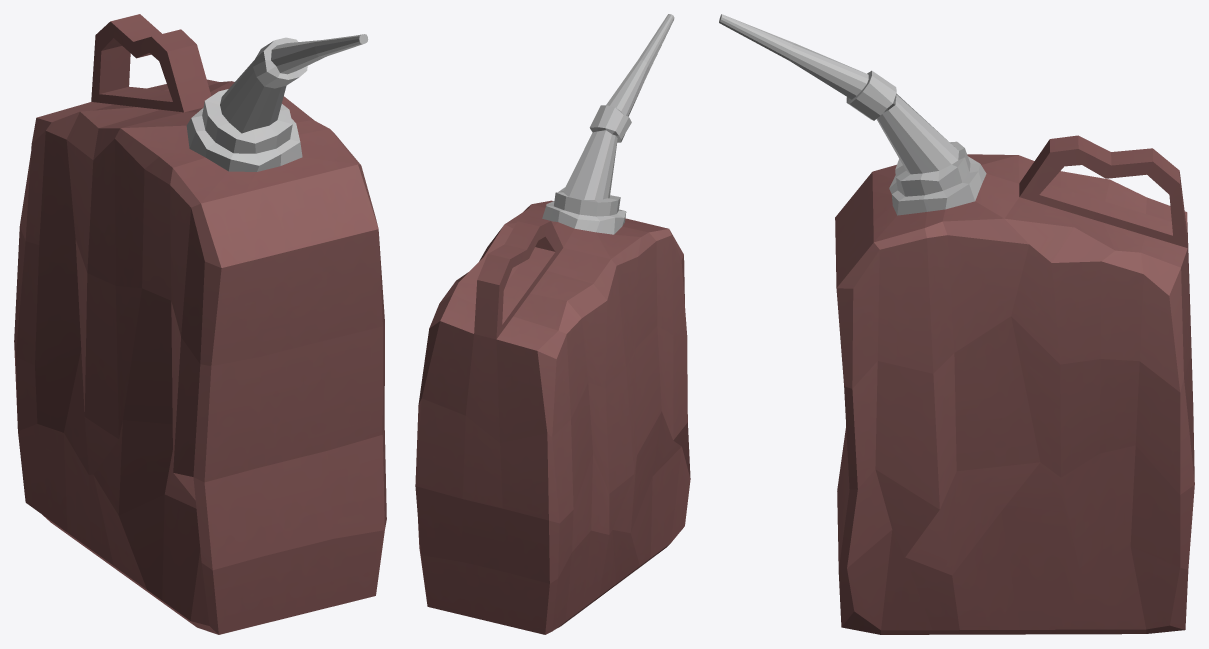
File: jerry_can_with_nozzle.glb
3 renders of one model, left to right at view 1: azimuth 30°, elevation 25°; view 2: azimuth 150°, elevation 25°; view 3: azimuth 270°, elevation 25°, orthographic. The views are drawn at different scales.
Parts seen in each view (by area): view 1: jerry_can_with_nozzle; view 2: jerry_can_with_nozzle; view 3: jerry_can_with_nozzle.
Part boxes in pixels (x1=…): jerry_can_with_nozzle: x1=14, y1=14, x2=386, y2=634; jerry_can_with_nozzle: x1=415, y1=14, x2=690, y2=634; jerry_can_with_nozzle: x1=719, y1=14, x2=1194, y2=634.
Size of the model in its own units: 0.2817 by 0.8802 by 0.6484.
Materials: 1 (1 with a texture image).
